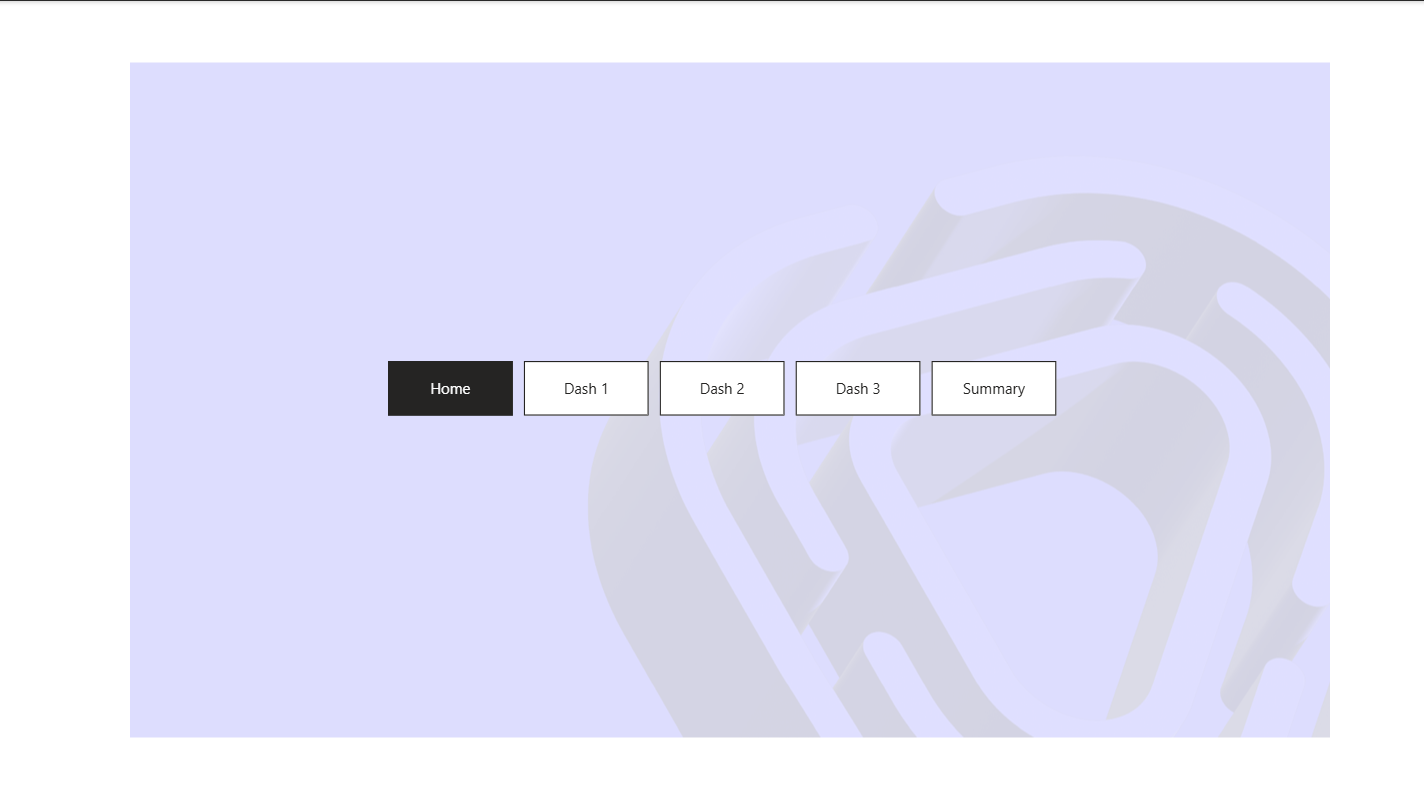

This screenshot's page, from the dashboard's own definition file:
{"tool":"powerbi","page":{"name":"Home","canvas":[1280,720],"ordinal":0},"visuals":[{"type":"pageNavigator","box":[348.2,322.9,600.1,49.6],"z":0}]}

Visuals, with their boxes on the page's 1280x720 design canvas (x1, y1, x2, y2). These are canvas units, not pixel positions in the 1424x802 screenshot, which may show the page scaled, cropped or inside an application window:
pageNavigator: BBox(348, 323, 948, 372)
